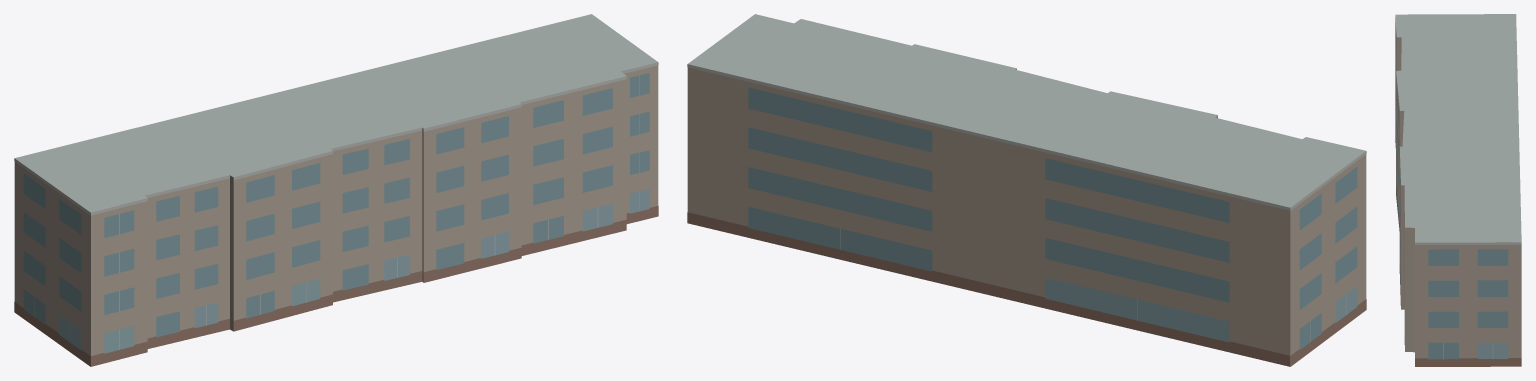
The model's file is survey-upis-32768490.glb.
The picture shows the model from 3 angles, left to right: view 1: azimuth 30°, elevation 25°; view 2: azimuth 150°, elevation 25°; view 3: azimuth 270°, elevation 25°; orthographic projection. The views are drawn at different scales.
Parts seen in each view (by area): view 1: survey-upis-32768490.tmp; view 2: survey-upis-32768490.tmp; view 3: survey-upis-32768490.tmp.
Part boxes in pixels (x1,y1,x2,y2): survey-upis-32768490.tmp: (14,14,658,366); survey-upis-32768490.tmp: (687,14,1366,366); survey-upis-32768490.tmp: (1395,14,1521,366).
Size of the model in its own units: 48.14 by 12.2 by 11.25.
